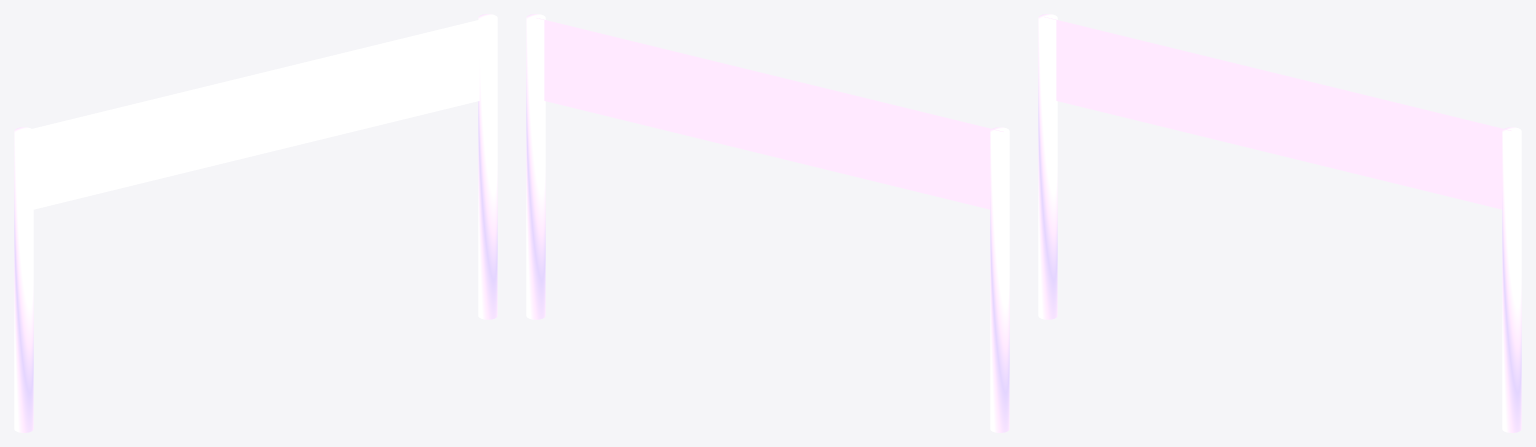
Rendered from holoGate.glb.
The picture shows the model from 3 angles, left to right: view 1: azimuth 30°, elevation 25°; view 2: azimuth 150°, elevation 25°; view 3: azimuth 330°, elevation 25°; orthographic projection.
Parts seen in each view (by area): view 1: Plane, Cylinder, Cylinder.001; view 2: Plane, Cylinder, Cylinder.001; view 3: Plane, Cylinder.001, Cylinder.
Boxes of the visible parts, x1,y1,x2,y2 form: Plane: (20,18,487,209); Cylinder: (14,127,33,432); Cylinder.001: (478,14,497,319); Plane: (536,18,1003,209); Cylinder: (990,127,1009,432); Cylinder.001: (526,14,545,319); Plane: (1044,16,1511,209); Cylinder.001: (1502,127,1521,432); Cylinder: (1038,14,1057,319).
Size of the model in its own units: 0.3842 by 0.2276 by 0.0134.
